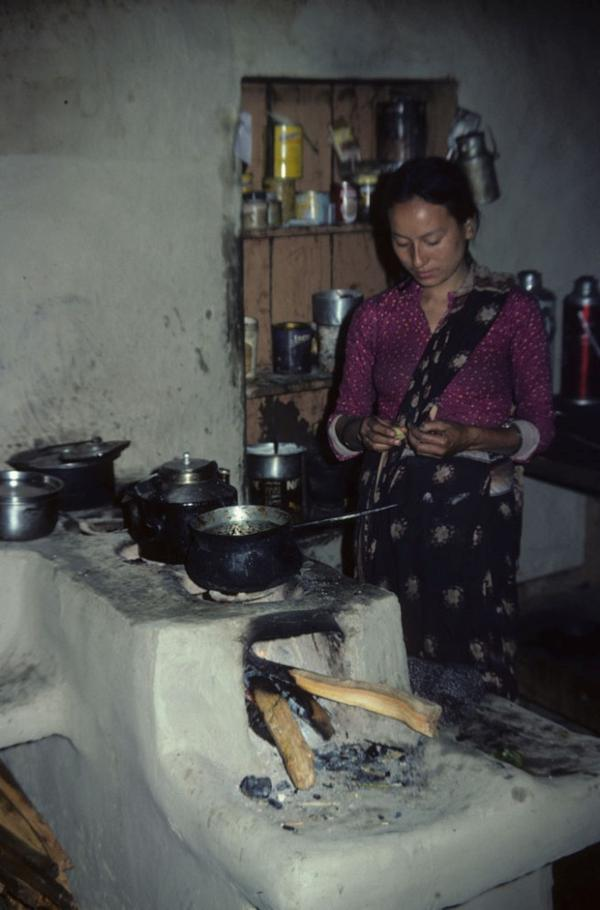person: (327, 143, 555, 715)
